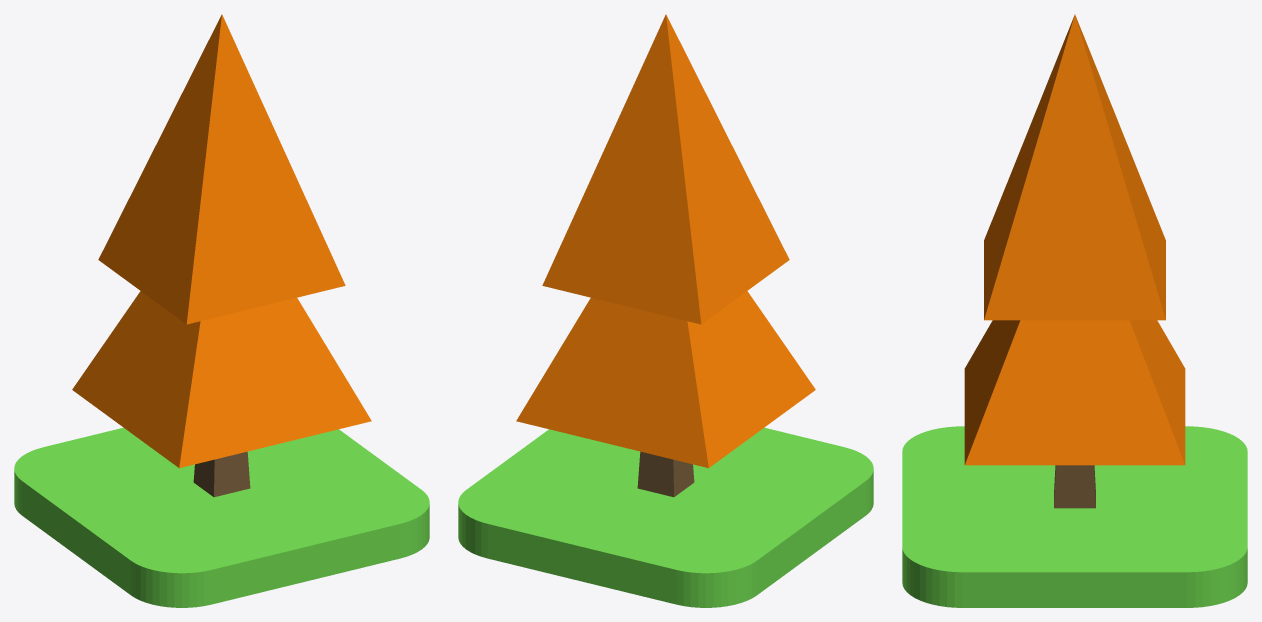
File: Tree1.fbx
The picture shows the model from 3 angles, left to right: view 1: azimuth 30°, elevation 25°; view 2: azimuth 150°, elevation 25°; view 3: azimuth 270°, elevation 25°; orthographic projection. The views are drawn at different scales.
Parts seen in each view (by area): view 1: Cube.018, Cube, Cube.003; view 2: Cube.018, Cube, Cube.003; view 3: Cube.018, Cube, Cube.003.
Part boxes in pixels (x1,y1,x2,y2): Cube.018: (72,14,371,468); Cube: (14,427,429,607); Cube.003: (193,451,250,497); Cube.018: (516,14,815,468); Cube: (458,427,873,607); Cube.003: (637,451,694,497); Cube.018: (964,14,1185,465); Cube: (902,426,1247,607); Cube.003: (1054,465,1095,508).
Size of the model in its own units: 200 by 333 by 200.
